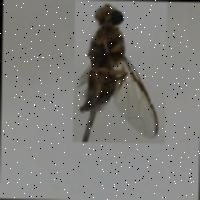Oriental-fruit-fly: (71, 0, 165, 143)
